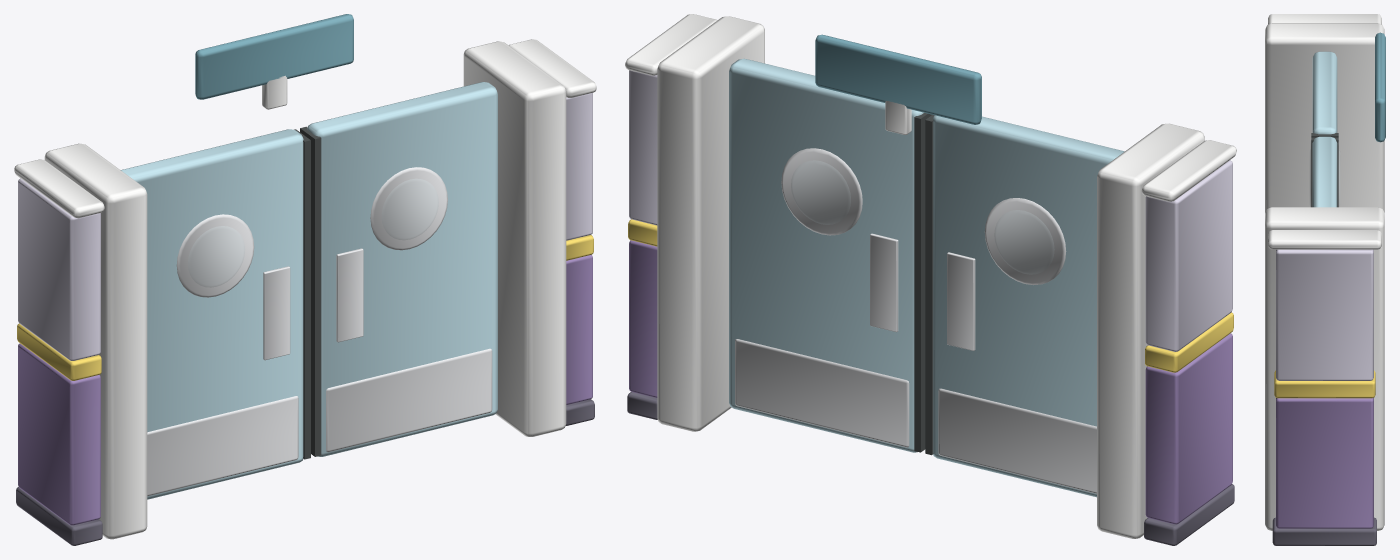
The model's file is pared_puerta.glb.
3 views of the same model, side by side, from view 1: azimuth 30°, elevation 25°; view 2: azimuth 150°, elevation 25°; view 3: azimuth 270°, elevation 25° (orthographic). The views are drawn at different scales.
Visible parts, largest first — view 1: puerta_d_hoja, puerta_i_hoja, marco1, marco-1, lado-1_zocalo, lado-1_alta, puerta_d_patadas, puerta_i_patadas, placa_sala, puerta_d_ojo-1, puerta_i_ojo-1, lado1_zocalo (+12 smaller); view 2: puerta_d_hoja, puerta_i_hoja, marco1, marco-1, lado-1_zocalo, lado-1_alta, puerta_d_patadas, puerta_i_patadas, placa_sala, puerta_d_ojo-1, puerta_i_ojo-1, lado1_zocalo (+12 smaller); view 3: marco-1, lado1_alta, lado1_zocalo, marco1, lado1_remate, puerta_i_hoja, lado1_rodapie, lado1_franja, puerta_d_hoja, placa_sala, lado-1_remate, puerta_d_burlete (+1 smaller).
Boxes of the visible parts, x1,y1,x2,y2 form: puerta_d_hoja: [307, 82, 497, 456]; puerta_i_hoja: [121, 129, 303, 499]; marco1: [463, 41, 566, 436]; marco-1: [44, 143, 147, 539]; lado-1_zocalo: [18, 343, 100, 525]; lado-1_alta: [18, 178, 100, 360]; puerta_d_patadas: [326, 348, 492, 452]; puerta_i_patadas: [147, 396, 298, 496]; placa_sala: [195, 14, 353, 99]; puerta_d_ojo-1: [370, 167, 447, 250]; puerta_i_ojo-1: [176, 214, 254, 297]; lado1_zocalo: [566, 254, 592, 404]; puerta_d_hoja: [729, 58, 923, 452]; puerta_i_hoja: [933, 115, 1124, 497]; marco1: [657, 16, 764, 431]; marco-1: [1097, 123, 1204, 538]; lado-1_zocalo: [1145, 333, 1232, 524]; lado-1_alta: [1145, 160, 1232, 351]; puerta_d_patadas: [735, 339, 909, 447]; puerta_i_patadas: [938, 388, 1096, 493]; placa_sala: [815, 34, 981, 124]; puerta_d_ojo-1: [781, 148, 862, 235]; puerta_i_ojo-1: [984, 198, 1066, 284]; lado1_zocalo: [629, 240, 657, 397]; marco-1: [1265, 23, 1384, 212]; lado1_alta: [1276, 249, 1373, 380]; lado1_zocalo: [1276, 397, 1373, 528]; marco1: [1265, 207, 1384, 530]; lado1_remate: [1268, 230, 1381, 249]; puerta_i_hoja: [1312, 51, 1337, 134]; lado1_rodapie: [1272, 517, 1376, 545]; lado1_franja: [1274, 370, 1375, 398]; puerta_d_hoja: [1312, 136, 1337, 207]; placa_sala: [1375, 32, 1385, 142]; lado-1_remate: [1268, 14, 1381, 24]; puerta_d_burlete: [1311, 137, 1338, 207].
Bounding box in the file's own units: 1 × 0.745 × 0.222.
